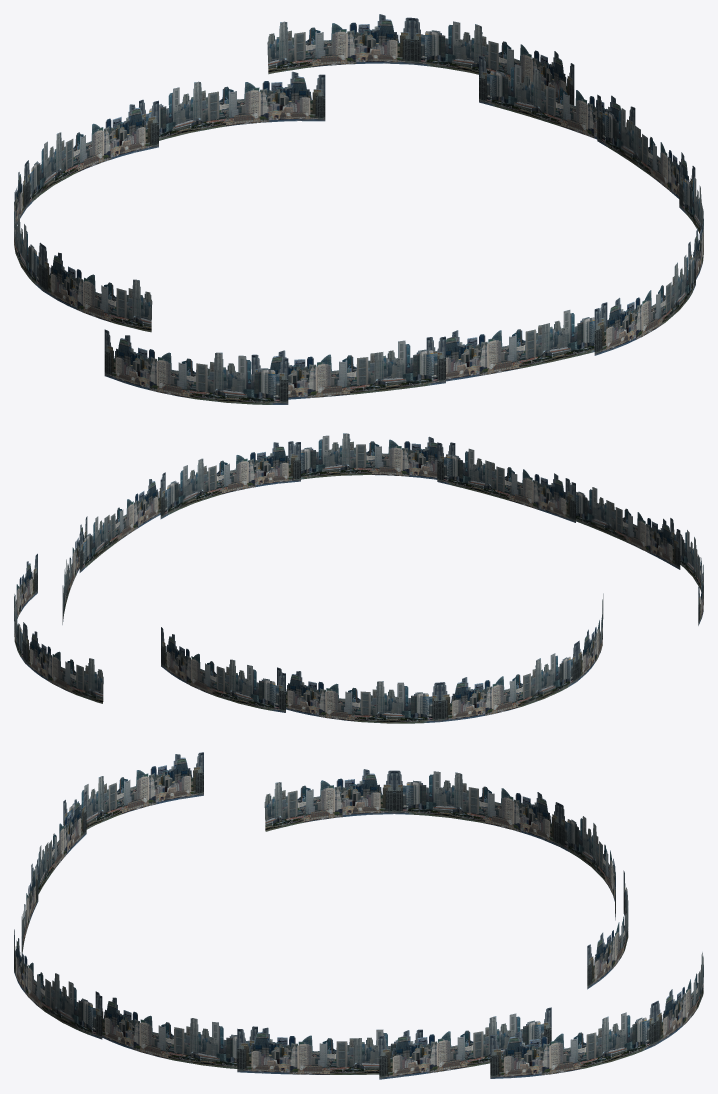
File: Singapore_track_building_wall.dae
3 views of the same model, one above another, from view 1: azimuth 30°, elevation 25°; view 2: azimuth 150°, elevation 25°; view 3: azimuth 270°, elevation 25° (orthographic). The views are drawn at different scales.
Visible parts, largest first — view 1: Singapore_track_building_wall; view 2: Singapore_track_building_wall; view 3: Singapore_track_building_wall.
Boxes of the visible parts, <box> form: Singapore_track_building_wall: <box>14,14,703,404</box>; Singapore_track_building_wall: <box>14,433,703,723</box>; Singapore_track_building_wall: <box>14,752,703,1079</box>.
Size of the model in its own units: 223 by 229 by 16.98.
1 material, 1 textured.
